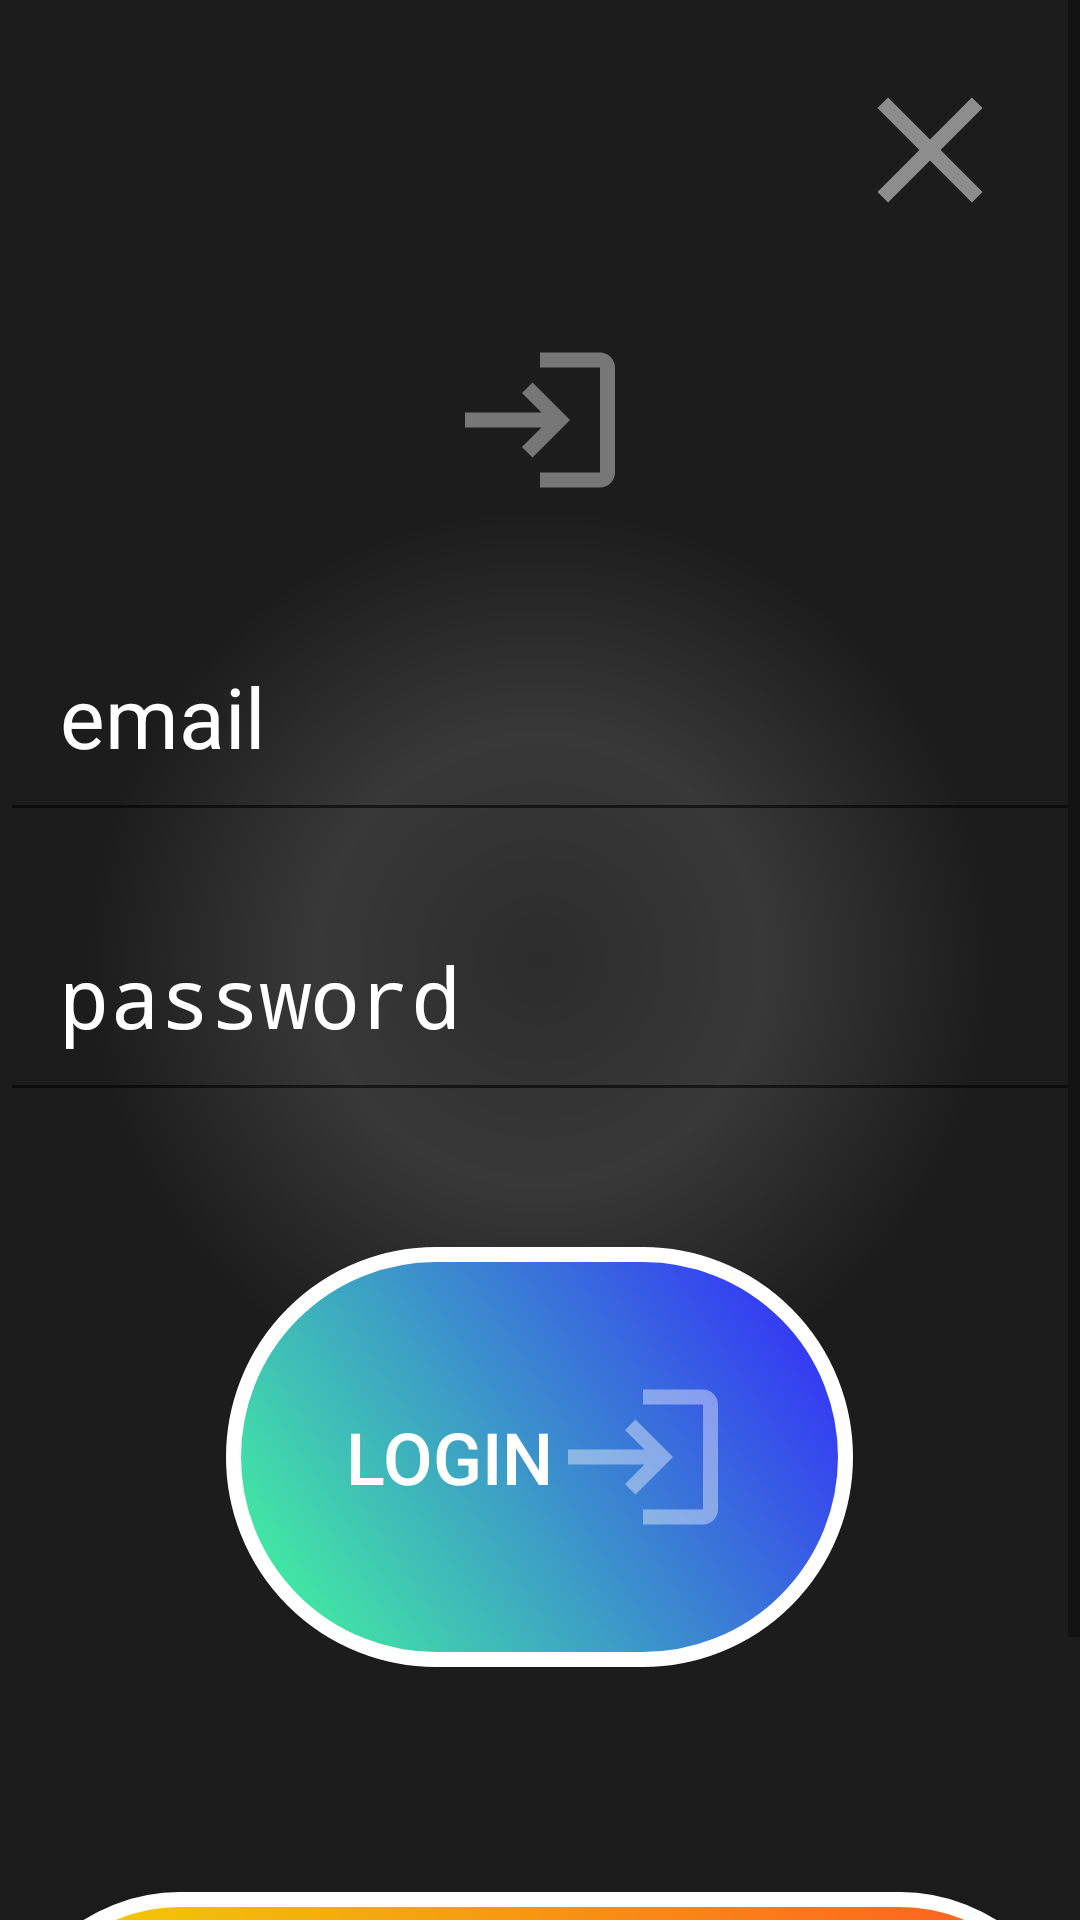

Where icons sit on this 1080 x 1920 app screen, as (left=x1, top=y1, right=x2, bottom=y2):
close: (left=878, top=98, right=982, bottom=202)
login: (left=465, top=352, right=615, bottom=488)
